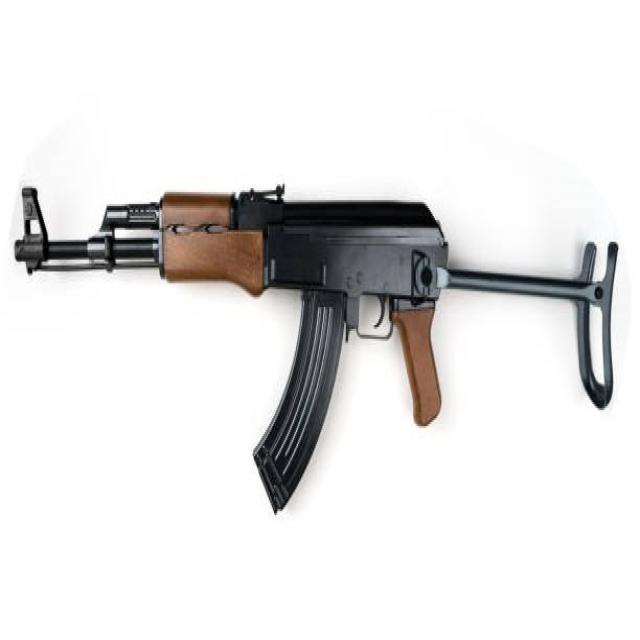rifle: (9, 154, 629, 524)
